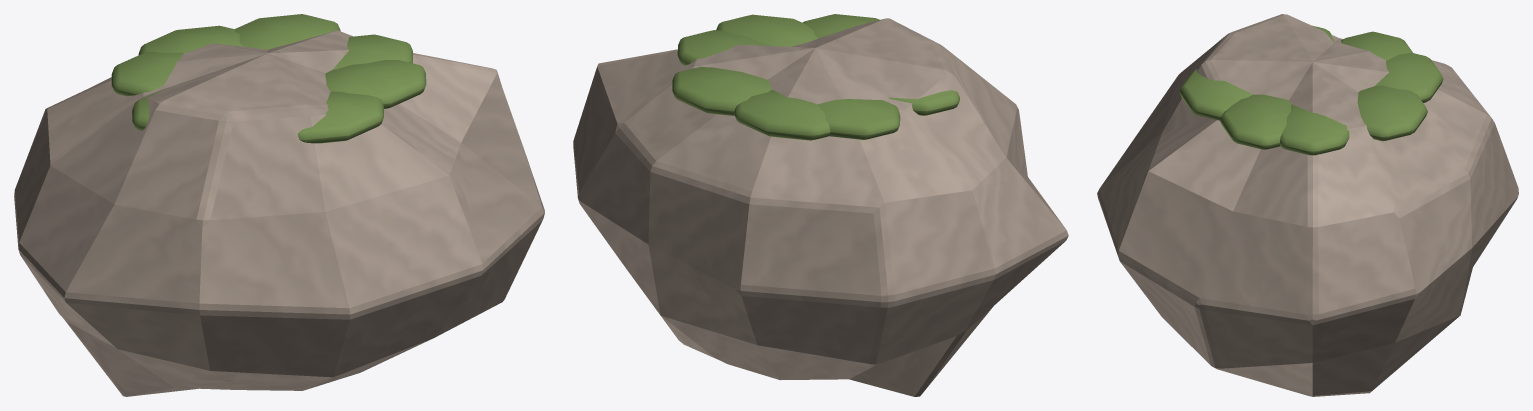
Rendered from rock_deco_1.glb.
3 renders of one model, left to right at view 1: azimuth 30°, elevation 25°; view 2: azimuth 150°, elevation 25°; view 3: azimuth 270°, elevation 25°, orthographic. The views are drawn at different scales.
Visible parts, largest first — view 1: rock_deco_1; view 2: rock_deco_1; view 3: rock_deco_1.
Boxes of the visible parts, x1,y1,x2,y2 form: rock_deco_1: (14,14,544,396); rock_deco_1: (573,14,1068,396); rock_deco_1: (1097,14,1518,396).
Bounding box in the file's own units: 0.887 × 0.5666 × 0.7353.
Materials: 2 (2 with a texture image).
